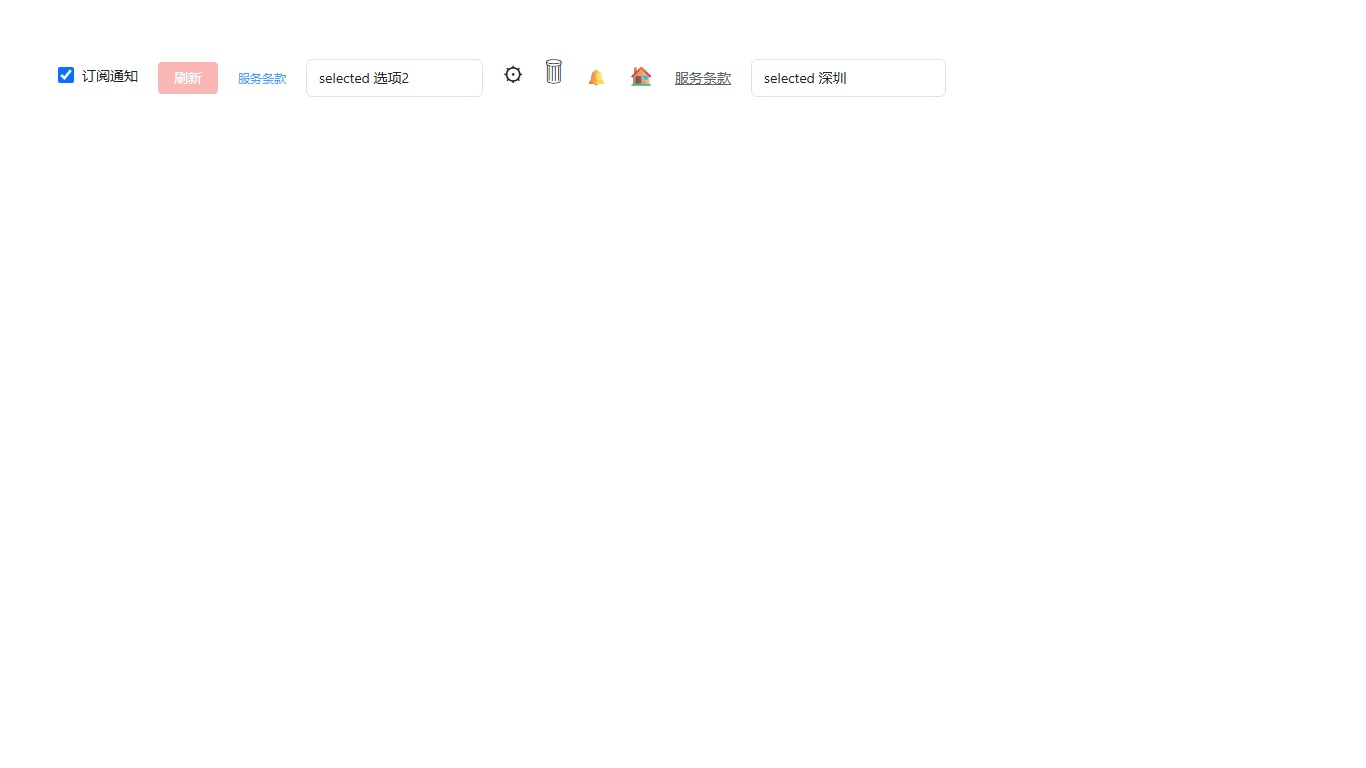button: (158, 62, 218, 94)
checkbox: (58, 67, 74, 83)
icon: (82, 65, 138, 84), (543, 54, 566, 86), (628, 65, 655, 85), (503, 61, 523, 85), (586, 69, 608, 85)
link: (675, 68, 731, 87), (238, 70, 286, 86)
radio: (58, 65, 138, 84)
select: (751, 58, 946, 96), (306, 58, 483, 96)
